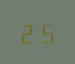five: (37, 20, 54, 43)
two: (19, 20, 36, 44)
